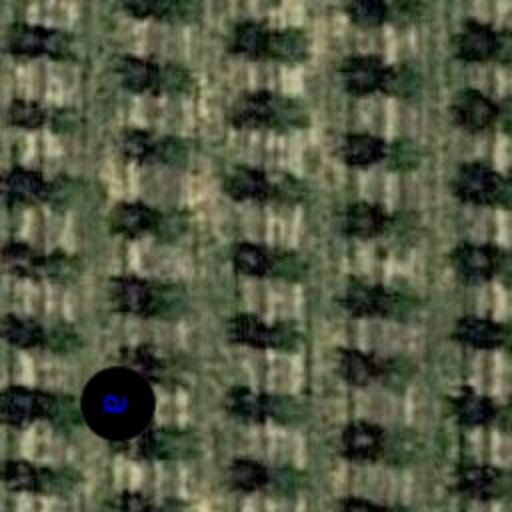circle: (76, 362, 160, 446)
